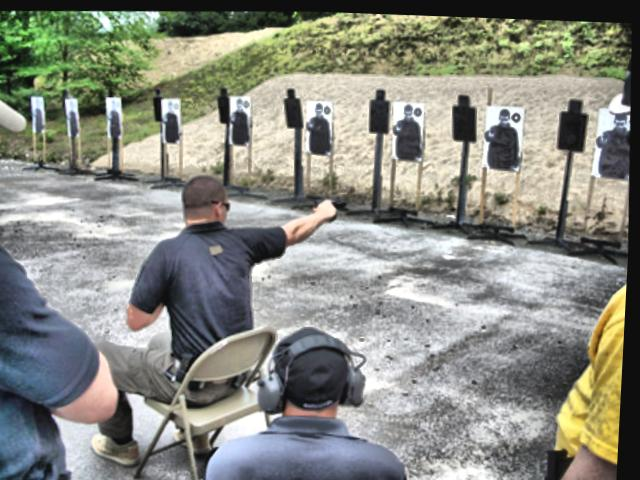pistol: (307, 188, 347, 215)
